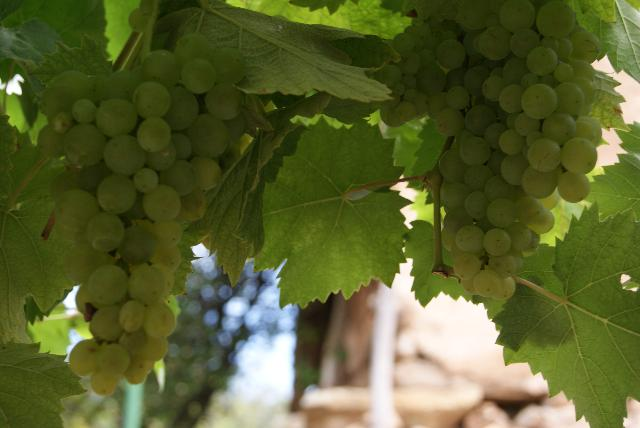grapes: (38, 34, 246, 395), (375, 0, 601, 294)
